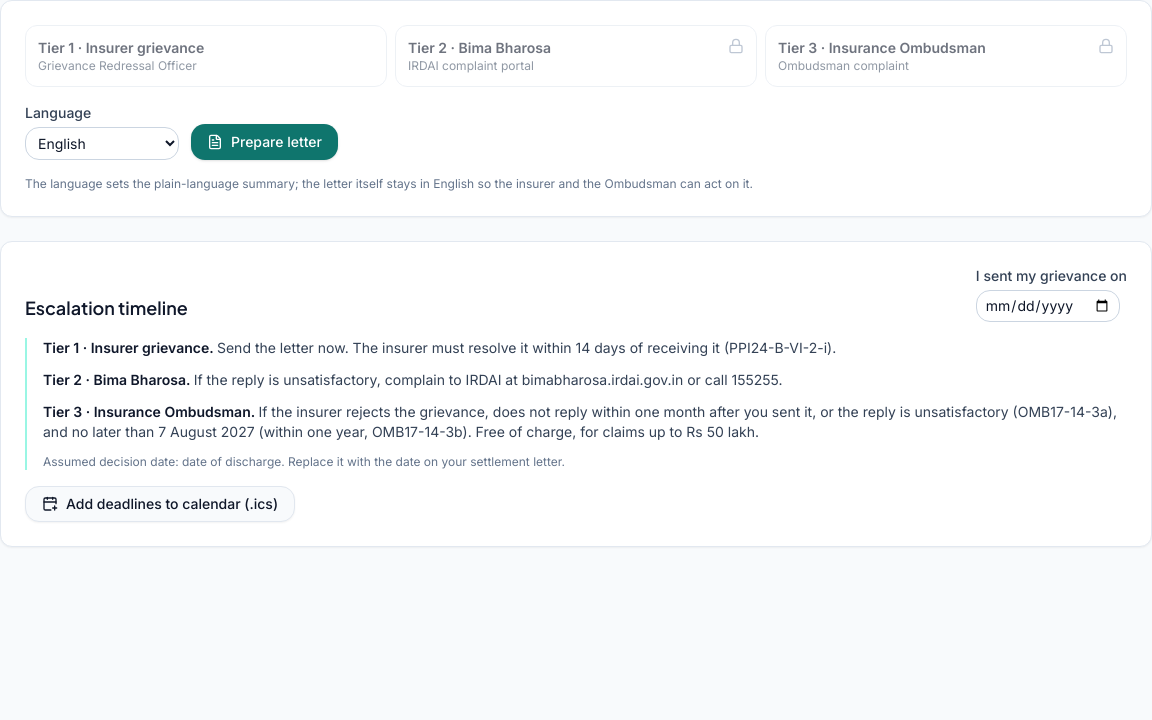
Test: ActionCentre: drafting and approval › acceptance 2: shows the letter returned by the draft endpoint and the local summary
Click the button "Prepare letter". click: x=264, y=142
box: [191,124,338,160]
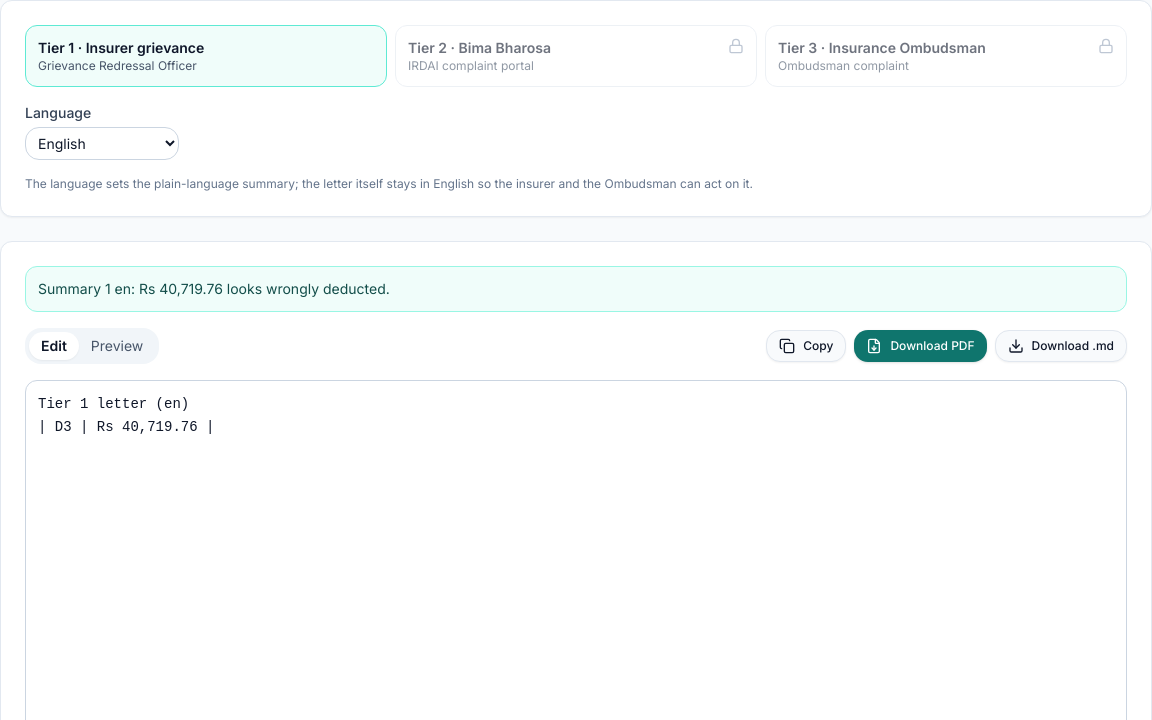
Now the text with test id "local-summary" shows "Summary 1 en: Rs 40,719.76", box [38,280,390,297]
